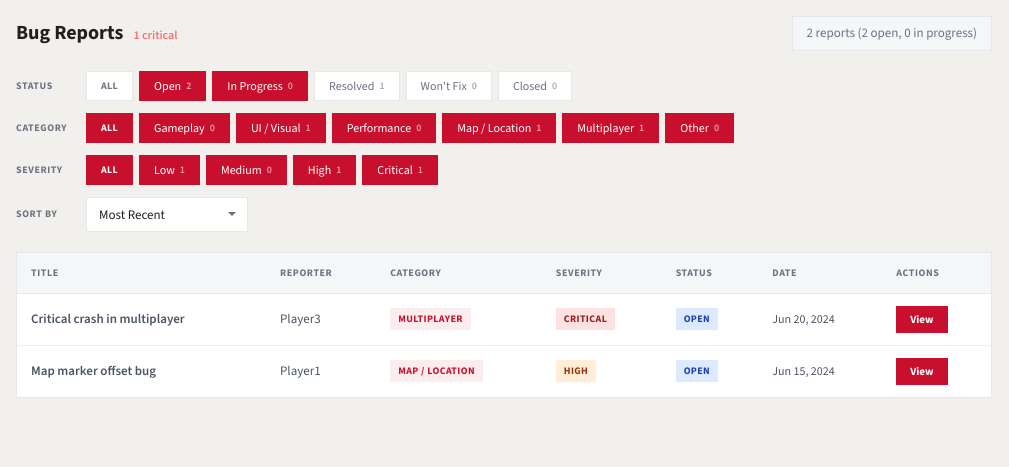
Test: BugReportManagement › filtering › should toggle status pills to show resolved reports
Expected: the text "UI glitch on mobile" is not shown
# Click the "Resolved" pill to enable it
Click the button "Resolved 1".
click(357, 86)  # box [314,71,400,101]
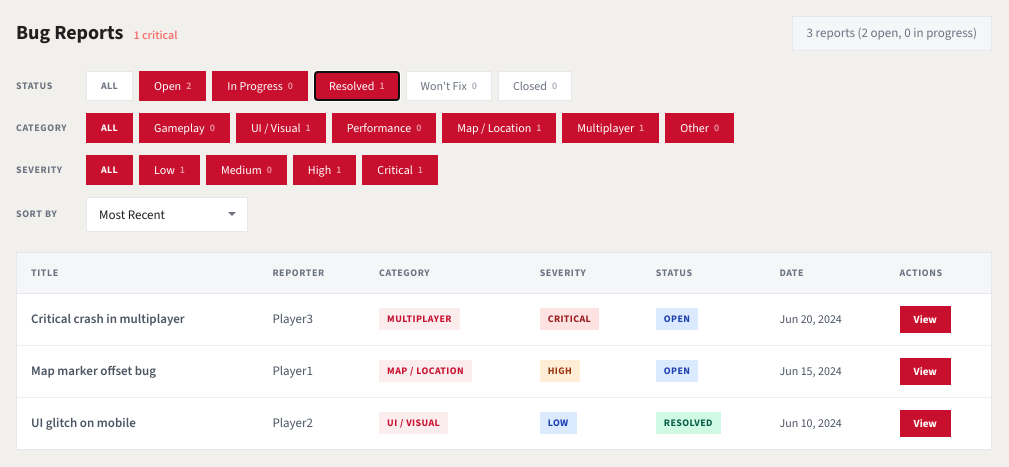
Expected: the text "Map marker offset bug" is shown, [17,345,258,397]
Expected: the text "UI glitch on mobile" is shown, [17,397,258,449]
